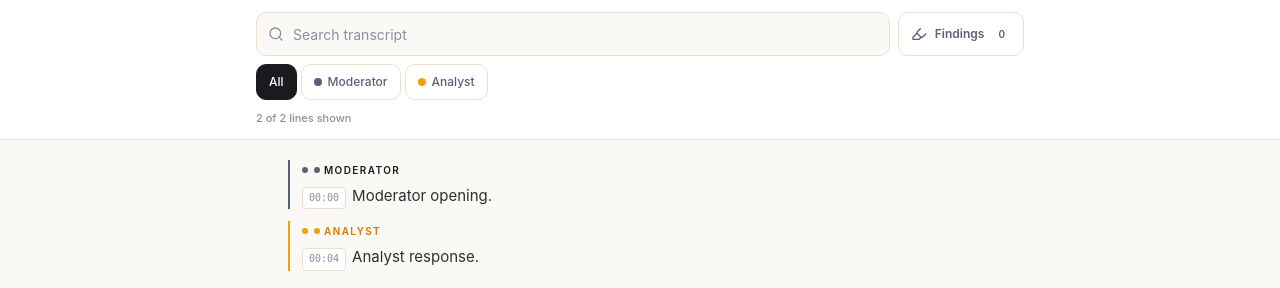
aria-live regions › speaker filtering preserves original transcript indexes for correction
Step 1. Click the button with test id "transcript-speaker-filter-1" → (446, 82), box [404, 64, 488, 100]
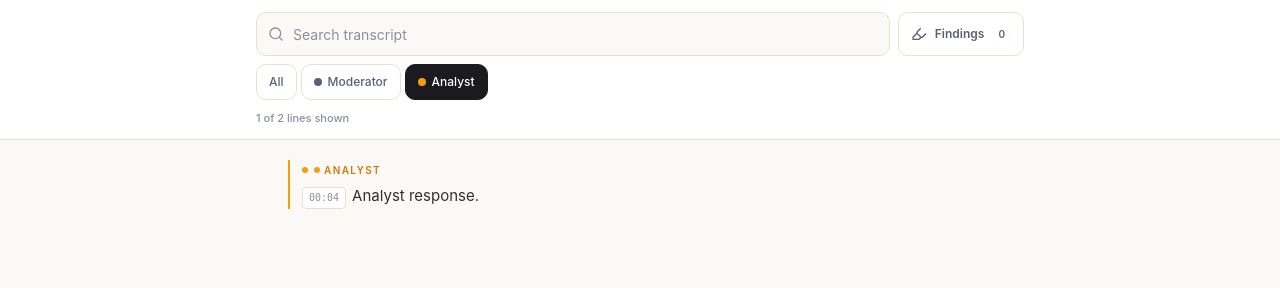
Check: the text "Analyst response." is shown, box [352, 186, 479, 205]
Check: the text "Moderator opening." is gone
Check: the button with test id "reassign-trigger-1" is shown, box [314, 160, 381, 180]
